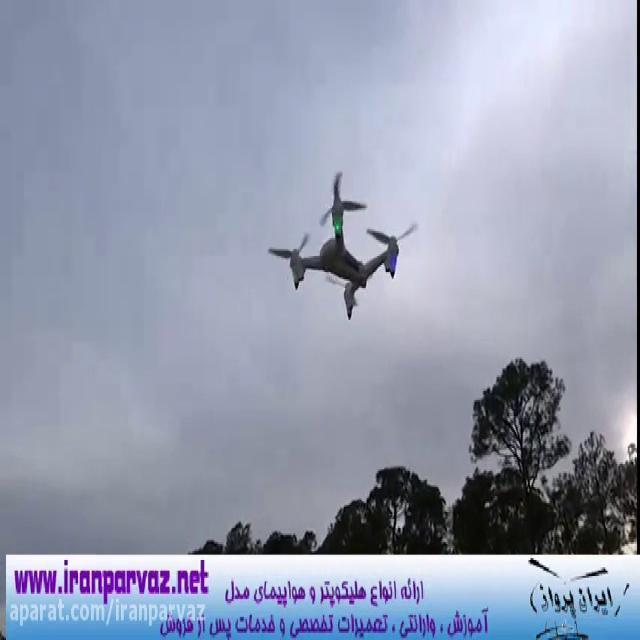drone: (264, 164, 422, 322)
